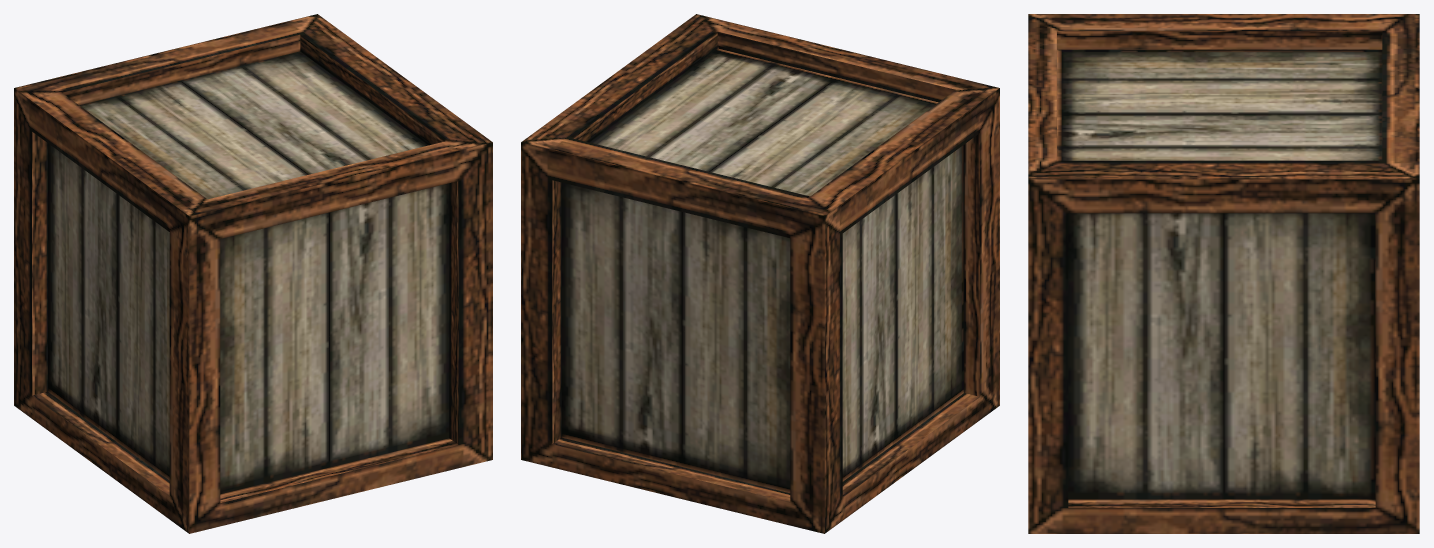
File: LVL_RIV_INST_CRATEC.fbx
The picture shows the model from 3 angles, left to right: view 1: azimuth 30°, elevation 25°; view 2: azimuth 150°, elevation 25°; view 3: azimuth 270°, elevation 25°; orthographic projection. The views are drawn at different scales.
Parts seen in each view (by area): view 1: LVL_RIV_INST_CRATEC; view 2: LVL_RIV_INST_CRATEC; view 3: LVL_RIV_INST_CRATEC.
Part boxes in pixels (<box>): LVL_RIV_INST_CRATEC: <box>14,14,492,533</box>; LVL_RIV_INST_CRATEC: <box>521,14,999,533</box>; LVL_RIV_INST_CRATEC: <box>1028,14,1419,533</box>.
Bounding box in the file's own units: 8148 × 8148 × 8148.
Materials: 1 (1 with a texture image).
